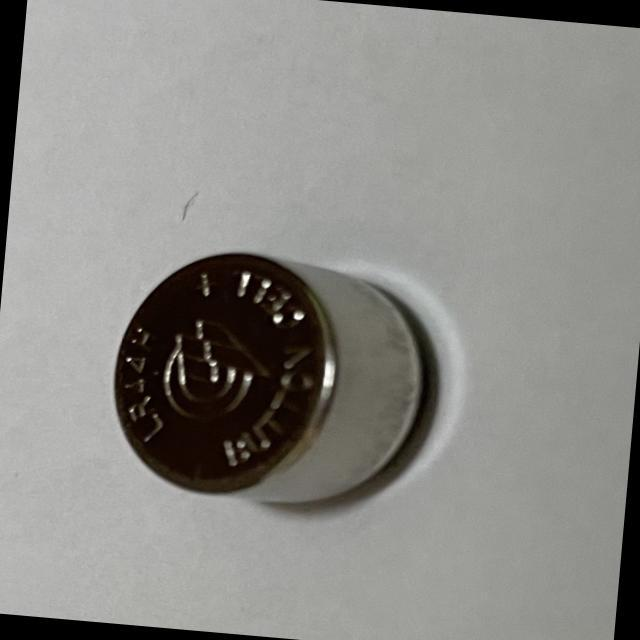COIN: (102, 238, 438, 514)
